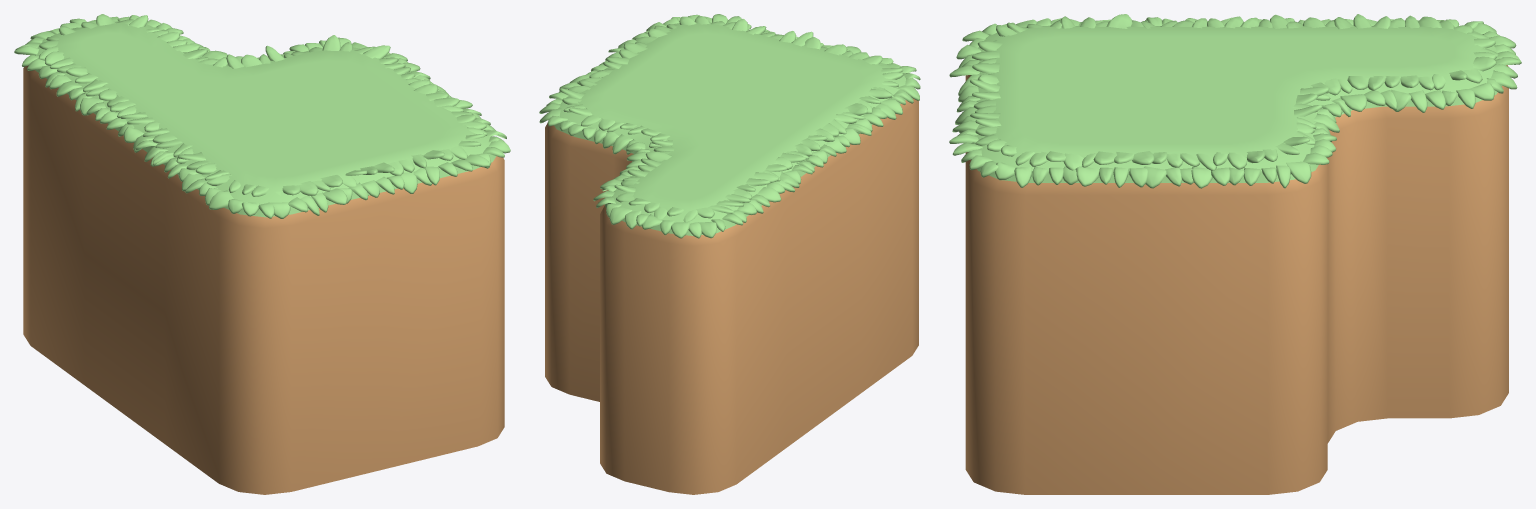
Rendered from Cliffs_3x2_L.fbx.
3 views of the same model, side by side, from view 1: azimuth 30°, elevation 25°; view 2: azimuth 150°, elevation 25°; view 3: azimuth 270°, elevation 25° (orthographic). The views are drawn at different scales.
Parts seen in each view (by area): view 1: 3x2_L_Cliff, 3x2_L_Blades; view 2: 3x2_L_Cliff, 3x2_L_Blades; view 3: 3x2_L_Cliff, 3x2_L_Blades.
Boxes of the visible parts, x1=… form: 3x2_L_Cliff: x1=23, y1=21, x2=504, y2=494; 3x2_L_Blades: x1=14, y1=14, x2=510, y2=218; 3x2_L_Cliff: x1=545, y1=22, x2=918, y2=494; 3x2_L_Blades: x1=539, y1=14, x2=920, y2=238; 3x2_L_Cliff: x1=965, y1=26, x2=1508, y2=494; 3x2_L_Blades: x1=949, y1=14, x2=1521, y2=188.
Bounding box in the file's own units: 216 × 204 × 316.
